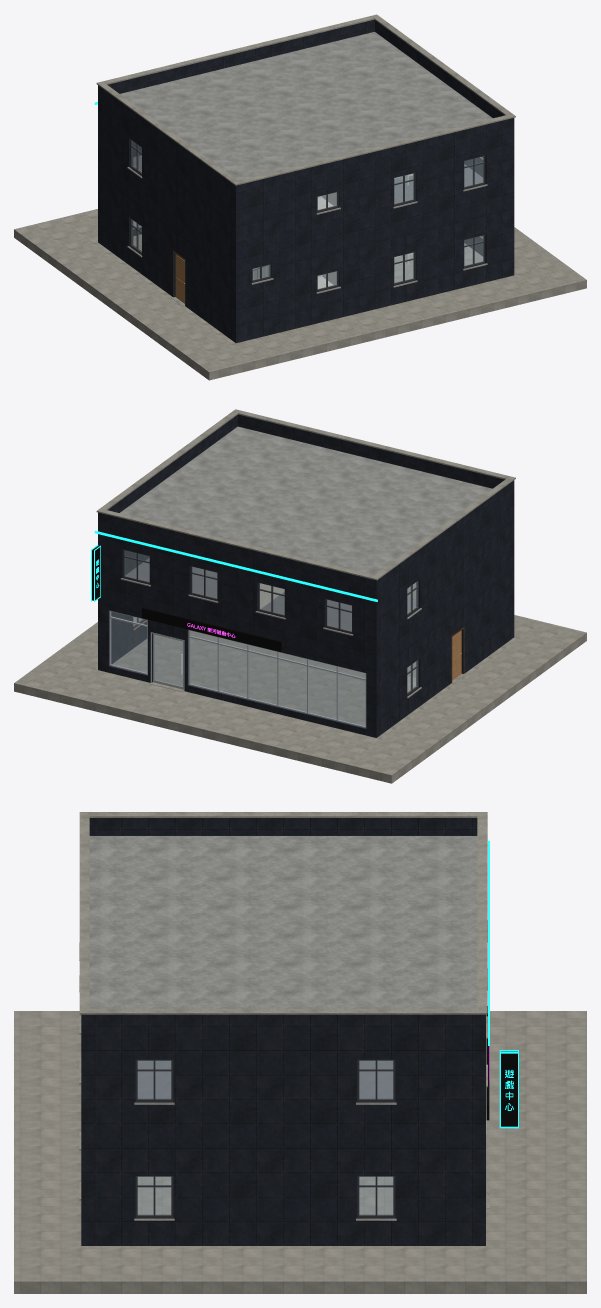
The model's file is b_galaxy_arcade.gltf.
3 renders of one model, top to bottom at view 1: azimuth 30°, elevation 25°; view 2: azimuth 150°, elevation 25°; view 3: azimuth 270°, elevation 25°, orthographic. The views are drawn at different scales.
Visible parts, largest first — view 1: S_galaxy_arcade; view 2: S_galaxy_arcade, D_galaxy_arcade_F1_S2_Door0; view 3: S_galaxy_arcade.
Boxes of the visible parts, x1,y1,x2,y2 form: S_galaxy_arcade: (14,14,586,380); S_galaxy_arcade: (14,409,586,783); D_galaxy_arcade_F1_S2_Door0: (153,633,183,689); S_galaxy_arcade: (14,812,586,1293).
Size of the model in its own units: 19 by 8.06 by 17.
21 materials, 11 textured.
